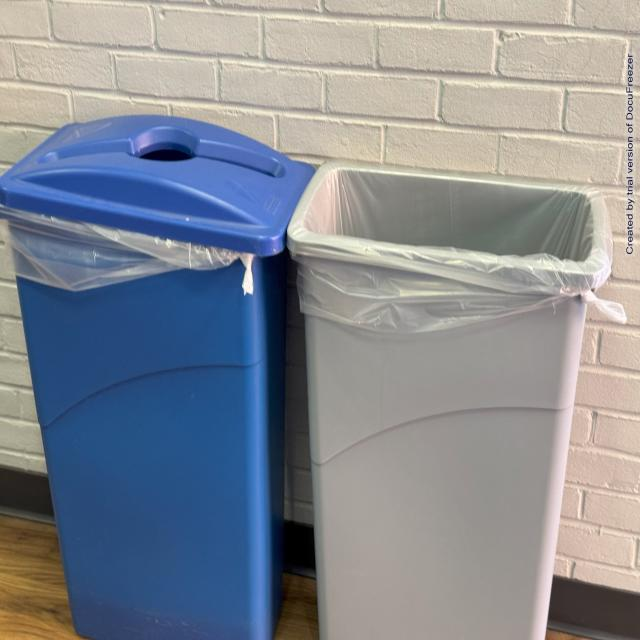Trash bin: (2, 78, 305, 640), (291, 146, 605, 640)
